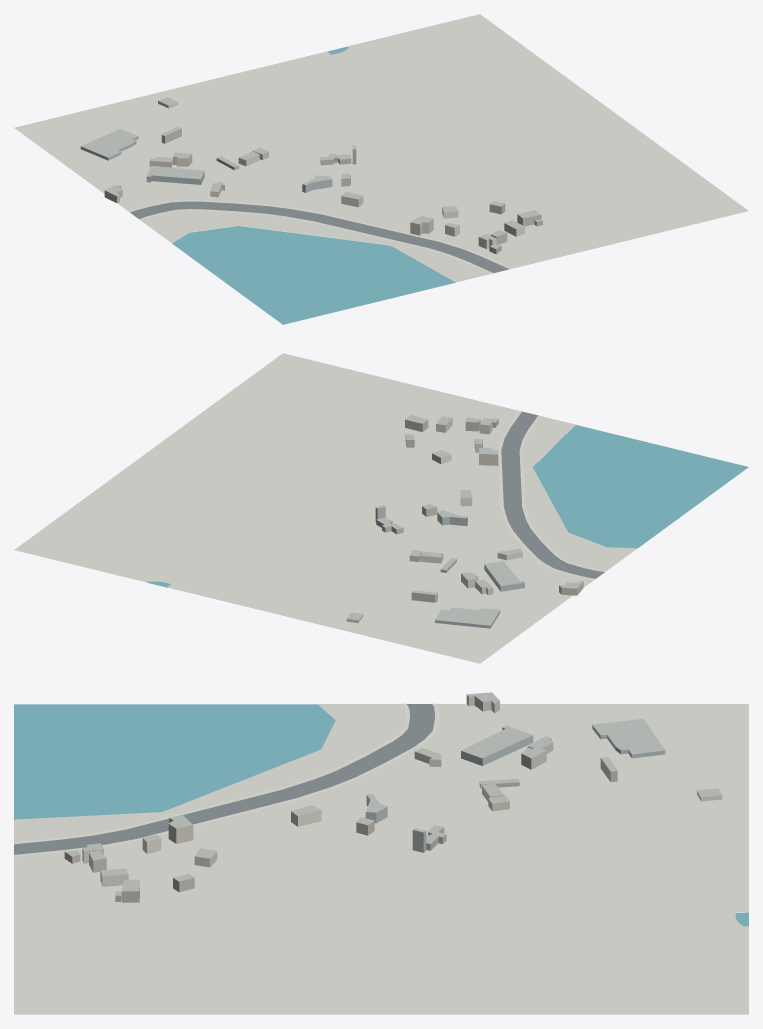
3 renders of one model, top to bottom at view 1: azimuth 30°, elevation 25°; view 2: azimuth 150°, elevation 25°; view 3: azimuth 270°, elevation 25°, orthographic. The views are drawn at different scales.
Parts seen in each view (by area): view 1: city; view 2: city; view 3: city.
Part boxes in pixels (x1=…): city: x1=14, y1=14, x2=748, y2=324; city: x1=14, y1=353, x2=748, y2=663; city: x1=14, y1=692, x2=748, y2=1014.
Bounding box in the file's own units: 503 × 15.48 × 500.
